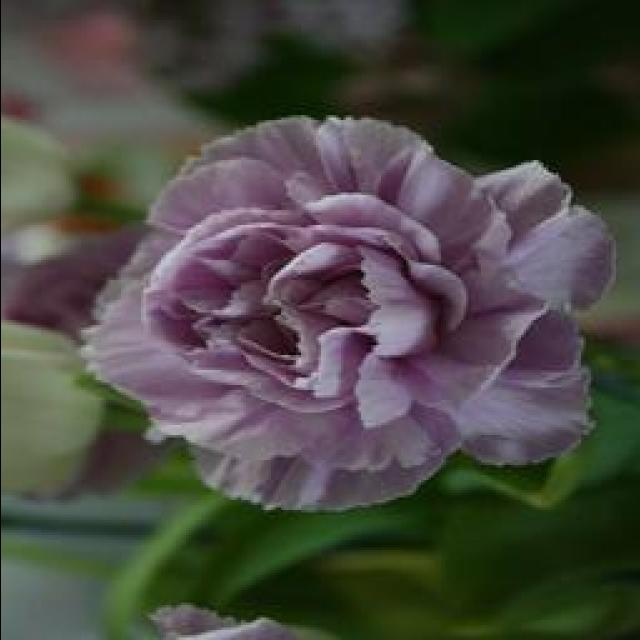carnation: (90, 100, 582, 532)
